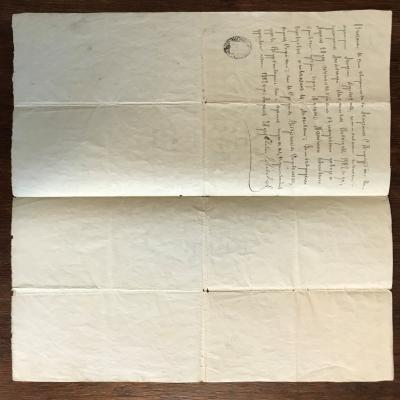document: (10, 10, 395, 384)
